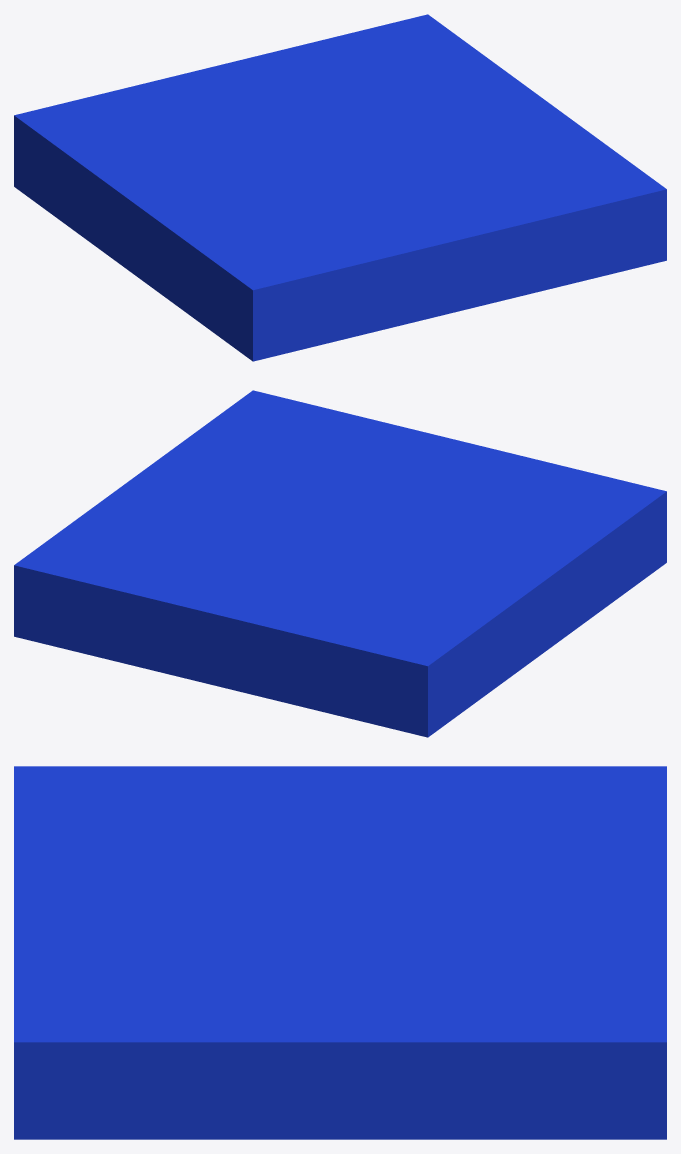
Rendered from CeilingLight_Lin.fbx.
The picture shows the model from 3 angles, top to bottom: view 1: azimuth 30°, elevation 25°; view 2: azimuth 150°, elevation 25°; view 3: azimuth 270°, elevation 25°; orthographic projection. The views are drawn at different scales.
Parts seen in each view (by area): view 1: Cube; view 2: Cube; view 3: Cube.
Boxes of the visible parts, x1,y1,x2,y2 form: Cube: (14, 14, 666, 361); Cube: (14, 390, 666, 737); Cube: (14, 766, 666, 1139).
Bounding box in the file's own units: 169 × 27.88 × 169.
